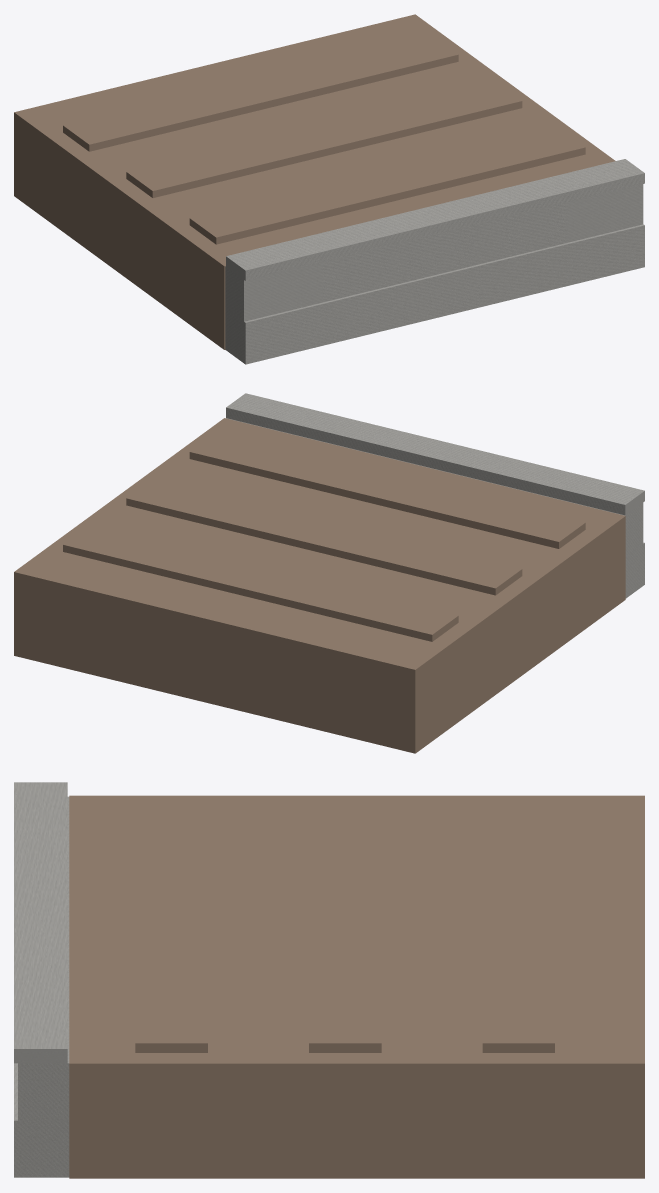
The model's file is andean-terraces-and-stone-village-terrace-wall-low-0ef499ef__38219.glb.
3 views of the same model, one above another, from view 1: azimuth 30°, elevation 25°; view 2: azimuth 150°, elevation 25°; view 3: azimuth 270°, elevation 25° (orthographic). The views are drawn at different scales.
Visible parts, largest first — view 1: terrace-wall-low-earth, terrace-wall-low-stone; view 2: terrace-wall-low-earth, terrace-wall-low-stone; view 3: terrace-wall-low-earth, terrace-wall-low-stone.
Boxes of the visible parts, x1,y1,x2,y2 form: terrace-wall-low-earth: [14, 14, 615, 349]; terrace-wall-low-stone: [225, 159, 644, 364]; terrace-wall-low-earth: [14, 418, 625, 753]; terrace-wall-low-stone: [226, 393, 644, 598]; terrace-wall-low-earth: [69, 795, 644, 1178]; terrace-wall-low-stone: [14, 782, 69, 1177].
Size of the model in its own units: 4.02 by 0.9 by 4.
2 materials, 1 textured.
